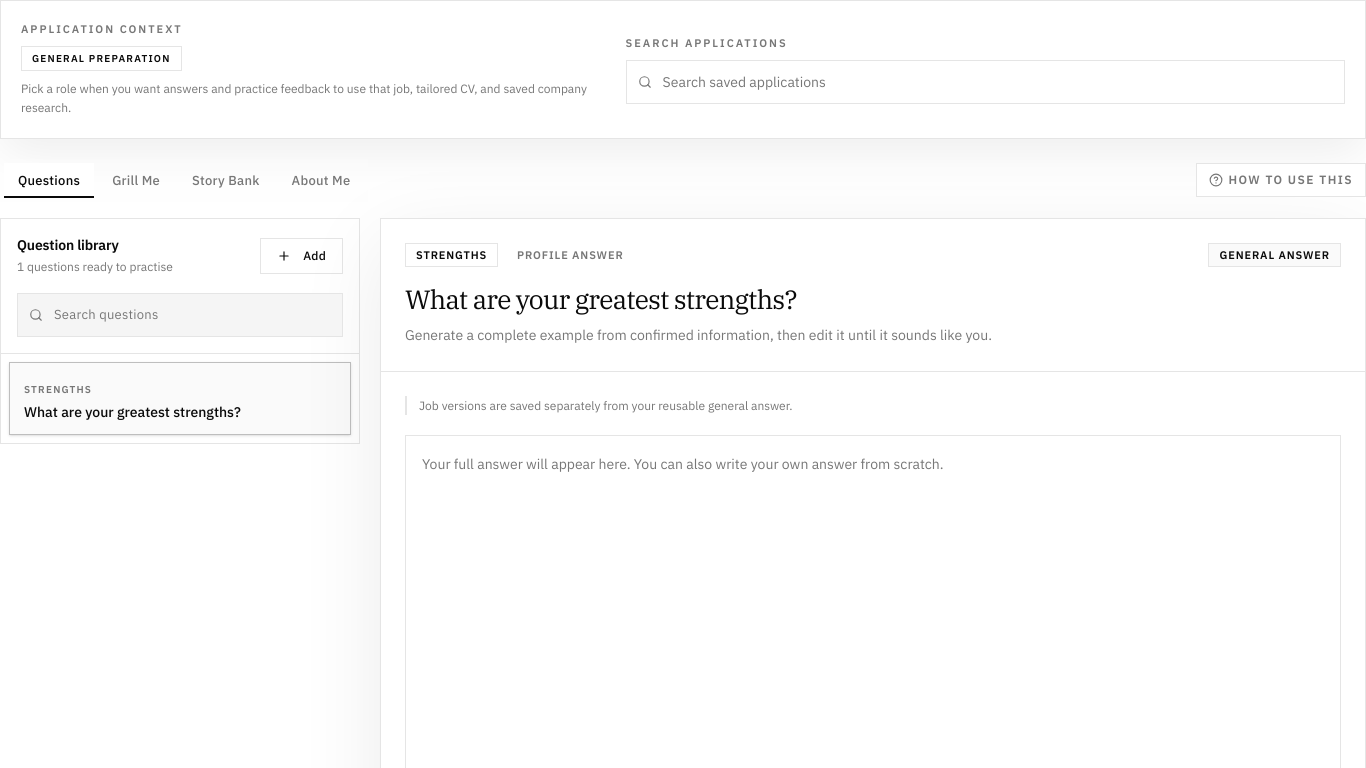
Scenario: InterviewWorkspace › lets the user search the workspace application context by job or company
Type "one" into the dropdown named "Application context" at (985, 82), box [626, 60, 1345, 104]
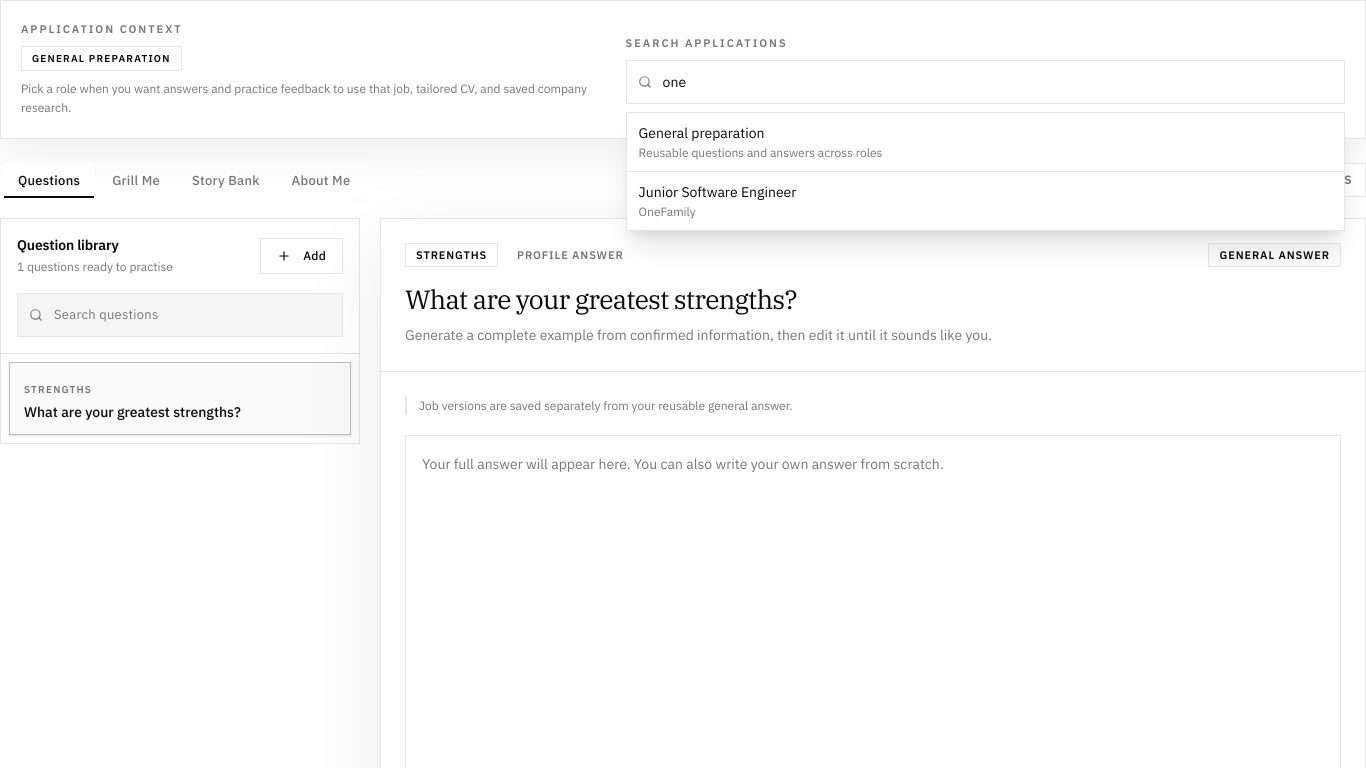
Expected: the button "Junior Software Engineer OneFamily" is shown
Expected: the text "OneFamily" is shown, [639, 204, 696, 218]
Expected: the button "Graduate Platform Engineer" is gone
Click the button "Junior Software Engineer OneFamily" at (717, 192), box [627, 172, 1344, 230]
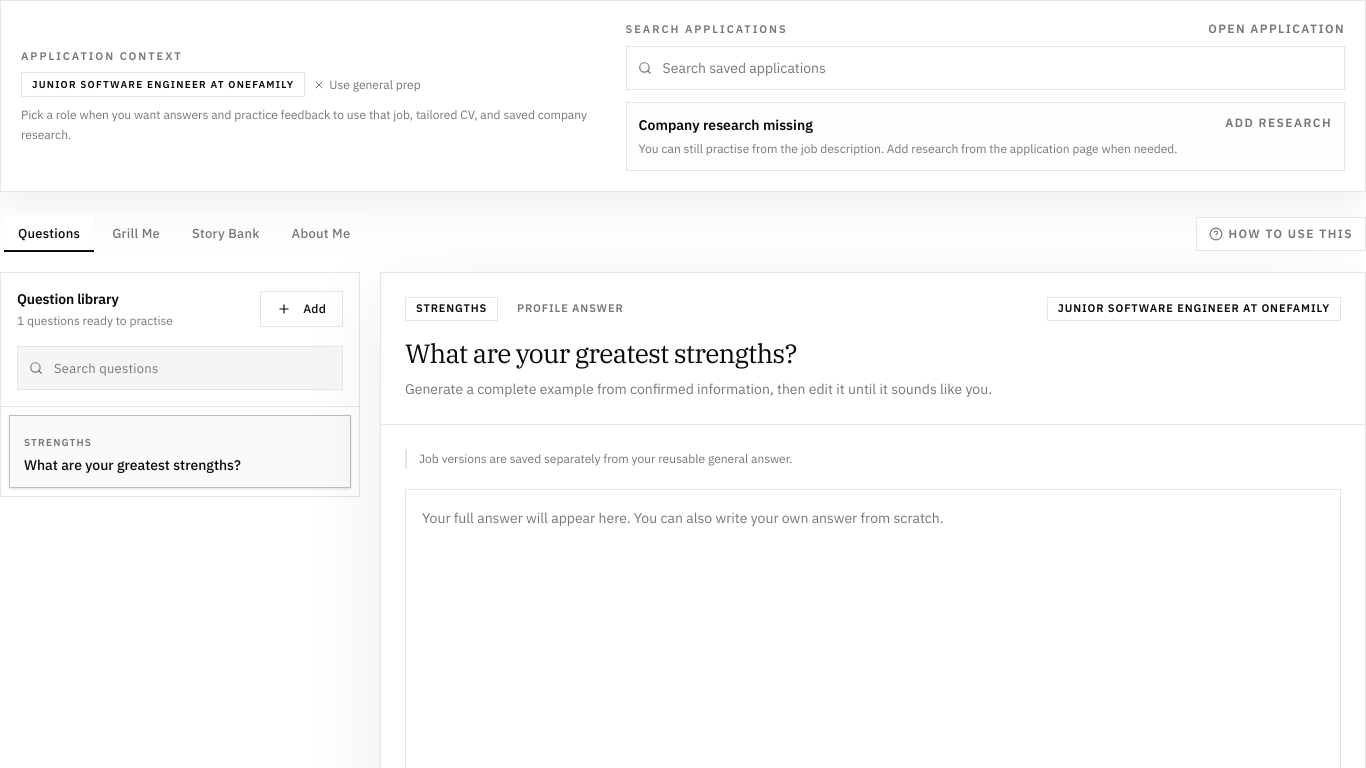
Expected: the text "Junior Software Engineer at OneFamily" below "Application context" is shown, [32, 78, 294, 91]
